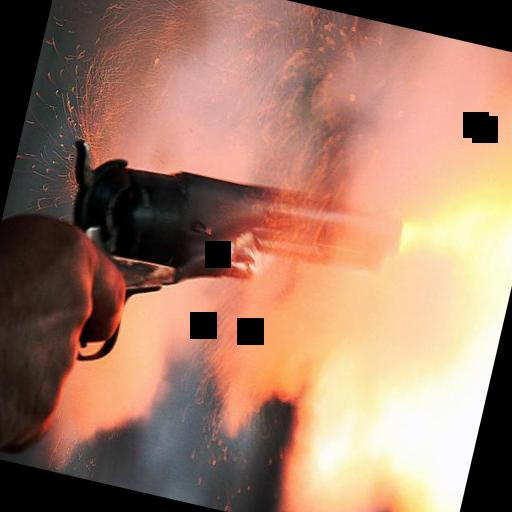Handgun: (35, 126, 409, 378)
